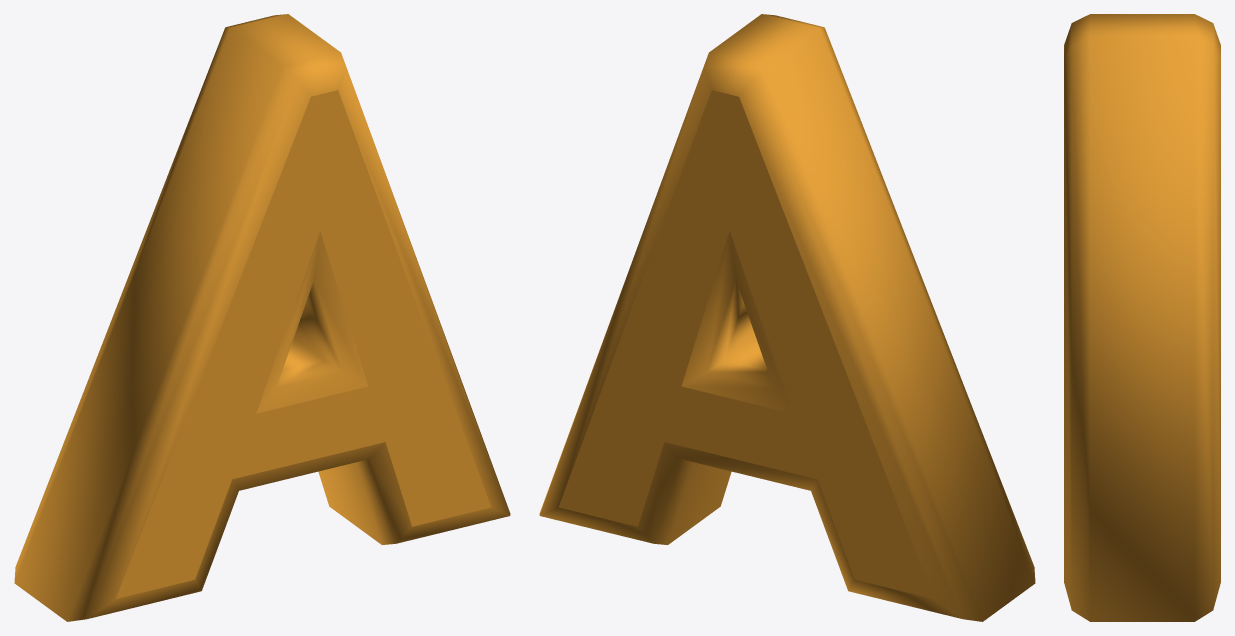
File: A_Caps.fbx
3 views of the same model, side by side, from view 1: azimuth 30°, elevation 25°; view 2: azimuth 150°, elevation 25°; view 3: azimuth 270°, elevation 25° (orthographic).
Parts seen in each view (by area): view 1: A; view 2: A; view 3: A.
Boxes of the visible parts, box(x1,y1,x2,y2) form: A: box(14, 14, 510, 621); A: box(539, 14, 1035, 621); A: box(1064, 14, 1220, 621).
Bounding box in the file's own units: 0.5824 × 0.6309 × 0.18.
